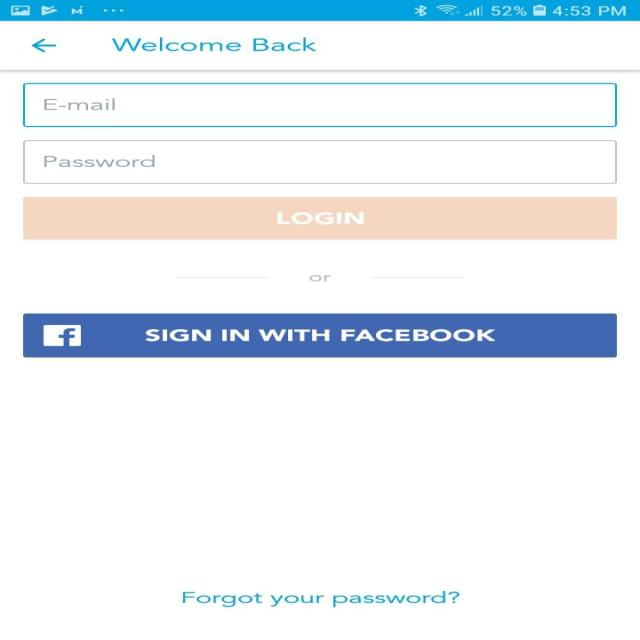EditText: (22, 139, 616, 184), (23, 83, 616, 127)
Icon: (31, 38, 56, 53)
Text: (182, 590, 460, 607), (111, 37, 317, 51), (44, 155, 154, 167), (44, 98, 114, 110), (308, 275, 332, 281)
TextButton: (22, 196, 616, 240), (23, 313, 616, 357)
